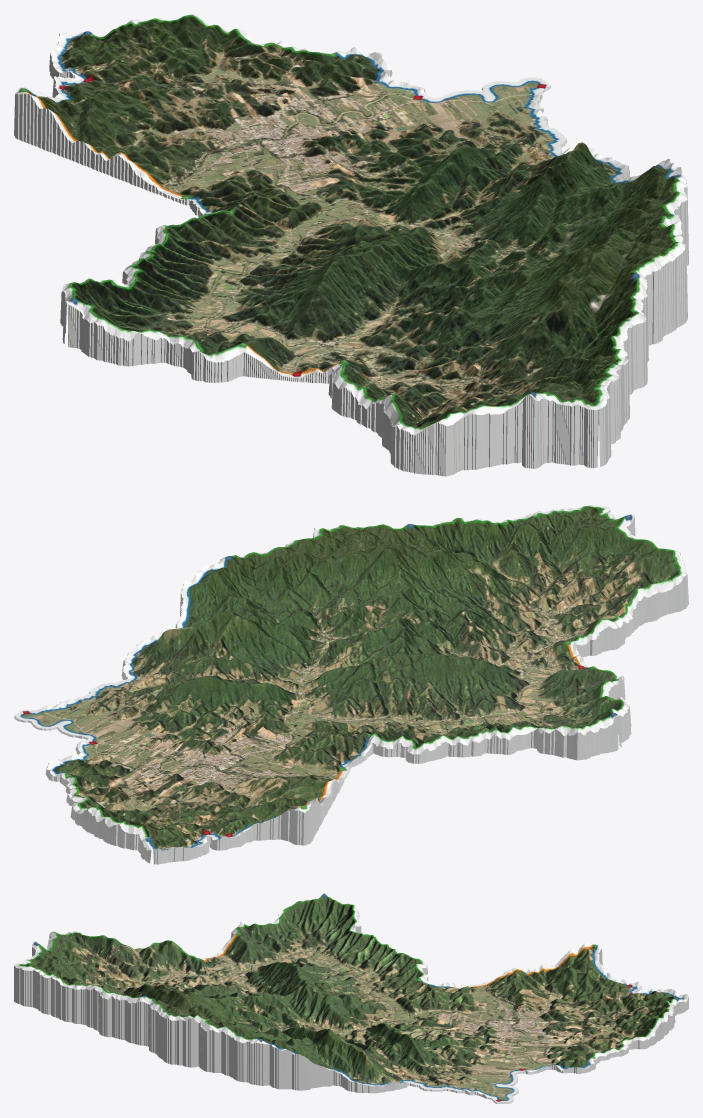
The picture shows the model from 3 angles, top to bottom: view 1: azimuth 30°, elevation 25°; view 2: azimuth 150°, elevation 25°; view 3: azimuth 270°, elevation 25°; orthographic projection. The views are drawn at different scales.
Bounding box in the file's own units: 0.9989 × 0.1246 × 1.54.
1 material, 1 textured.
